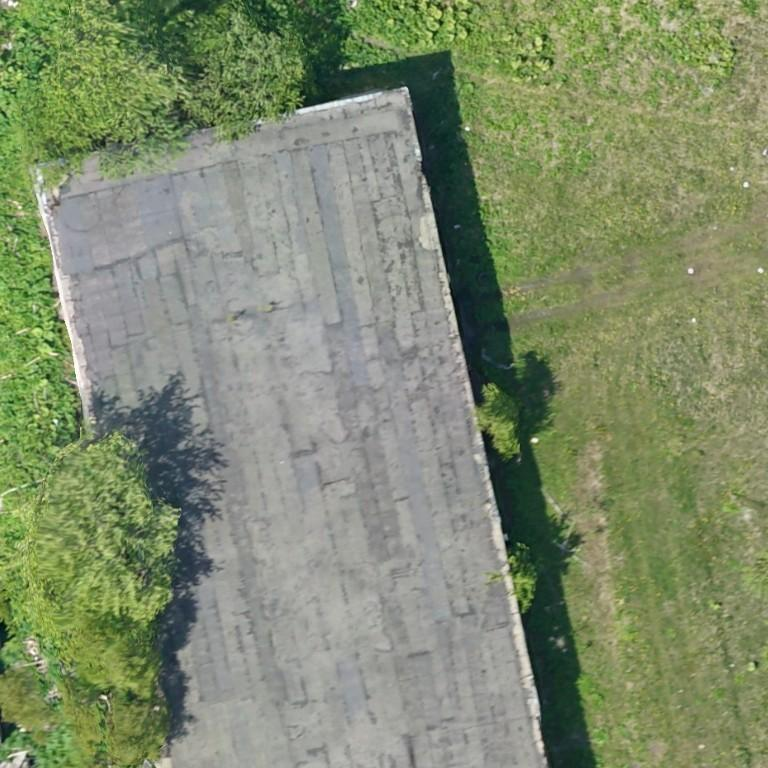hogweed: (0, 146, 77, 441)
